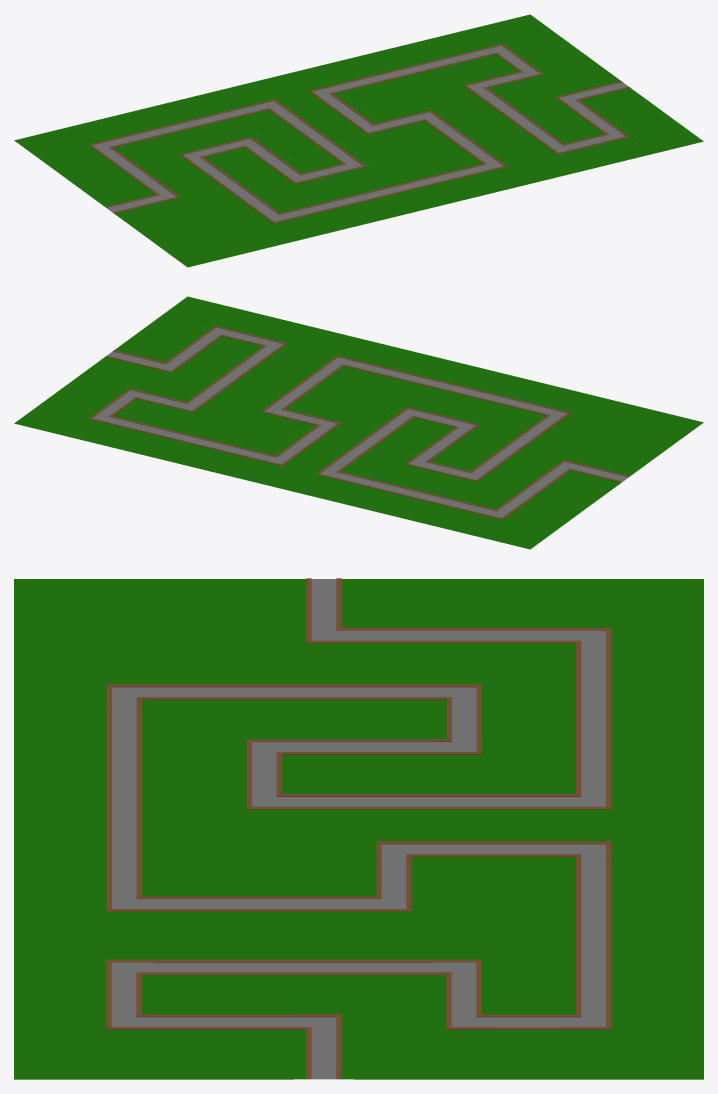
The model's file is trilha grama plus 2.fbx.
3 views of the same model, one above another, from view 1: azimuth 30°, elevation 25°; view 2: azimuth 150°, elevation 25°; view 3: azimuth 270°, elevation 25° (orthographic). The views are drawn at different scales.
Parts seen in each view (by area): view 1: Plane.024; view 2: Plane.024; view 3: Plane.024.
Boxes of the visible parts, x1=… form: Plane.024: x1=14, y1=14, x2=703, y2=267; Plane.024: x1=14, y1=296, x2=703, y2=549; Plane.024: x1=14, y1=578, x2=703, y2=1079.
Size of the model in its own units: 31726 by 15.72 by 18481.
